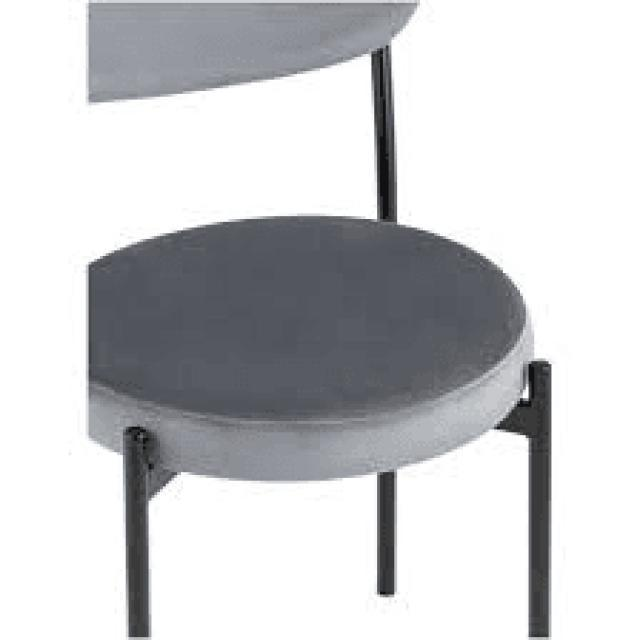chair: (66, 0, 583, 640)
